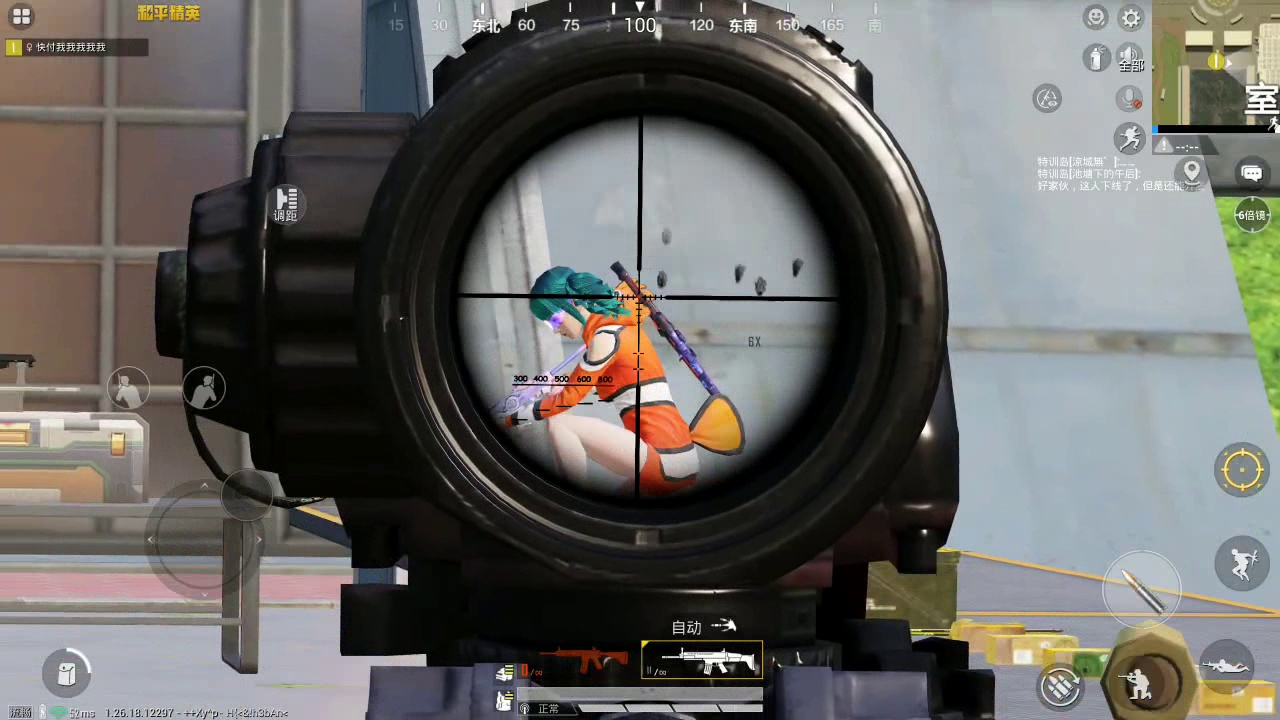enemy: (518, 268, 726, 475)
